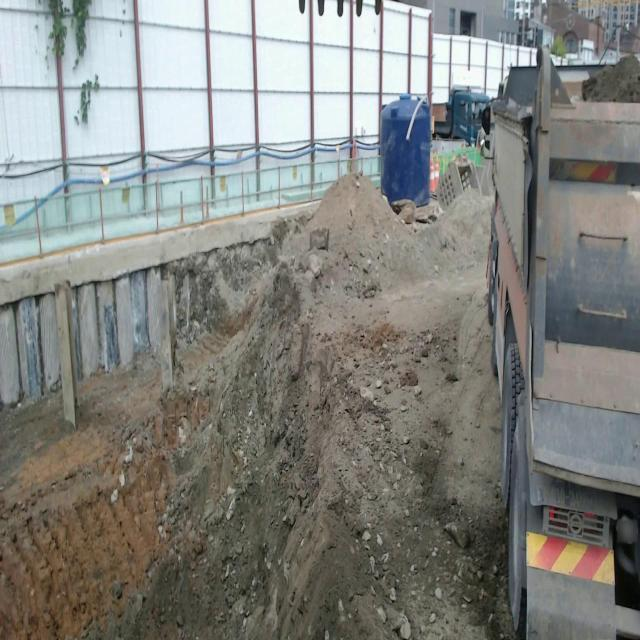red-sand: (0, 180, 513, 639)
